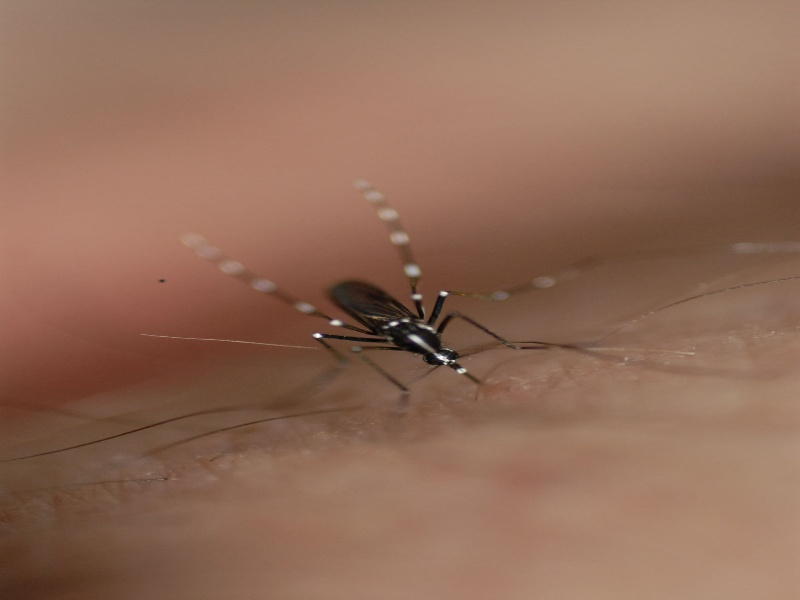dengue_mosquito: (303, 284, 489, 382)
